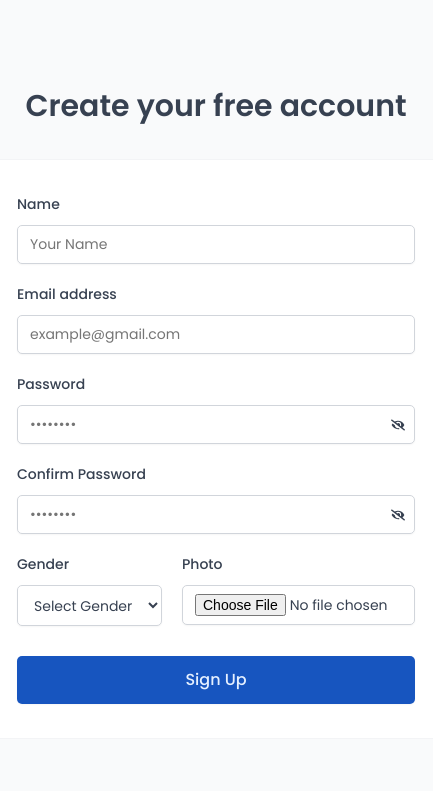
Test: Sign Up Logic Flow › validating the signup form with the wrong data
Click the button "Sign Up".
click(216, 680)  # box x1=17 y1=656 x2=415 y2=704
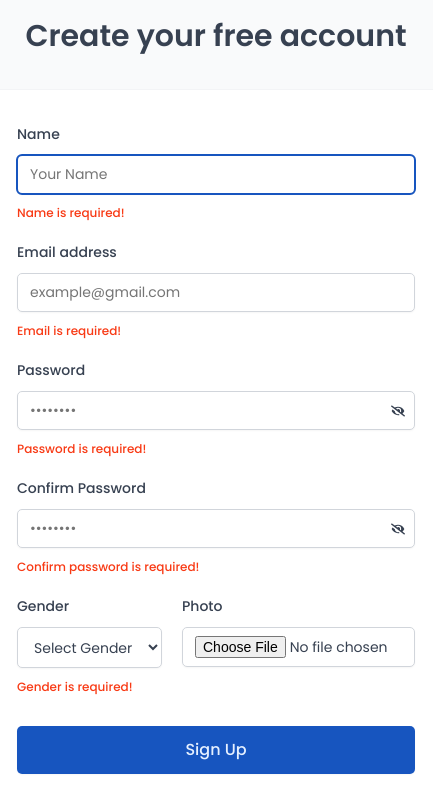
Check: the text "Name is required!" is shown, box x1=17 y1=204 x2=125 y2=221
Check: the text "Email is required!" is shown, box x1=17 y1=322 x2=121 y2=339
Check: the text "Password is required!" is shown, box x1=17 y1=440 x2=146 y2=457
